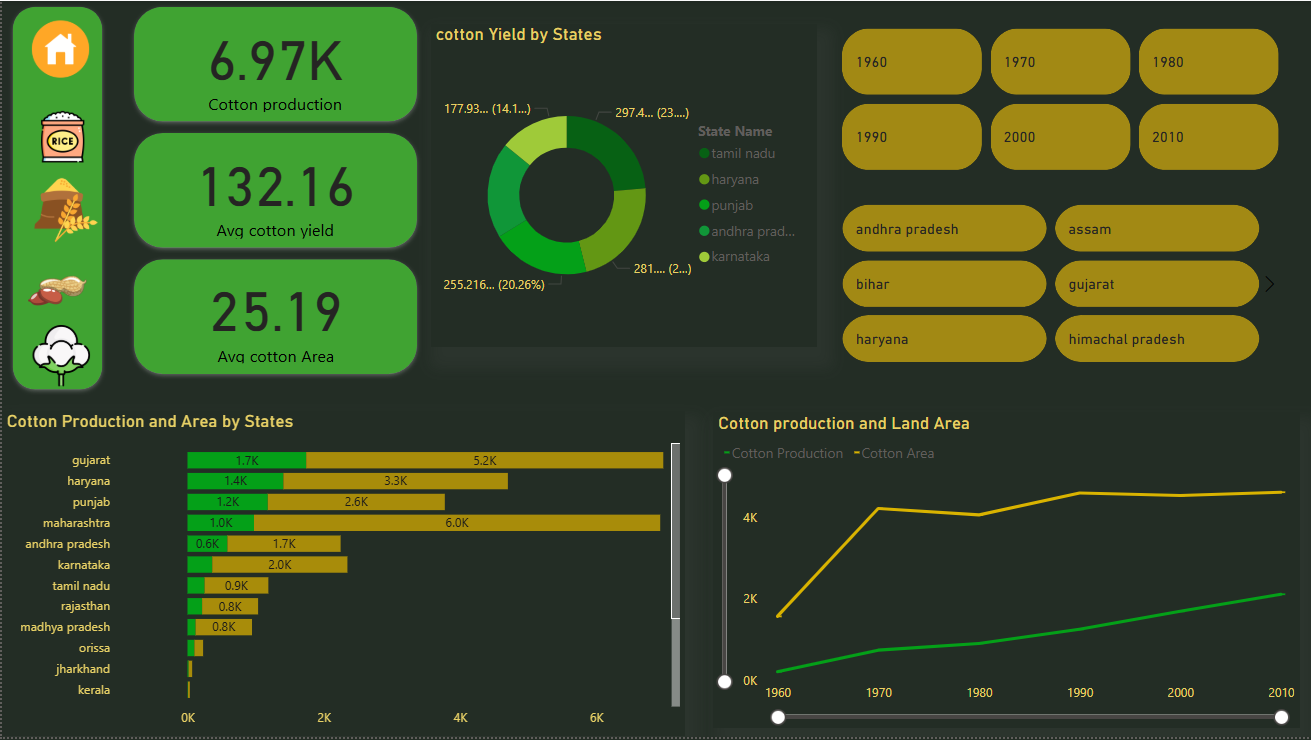

This screenshot's page, from the dashboard's own definition file:
{"tool":"powerbi","page":{"name":"Cotton","canvas":[1280,720],"ordinal":4},"visuals":[{"type":"shape","box":[123.8,0,288.2,123.5],"z":0},{"type":"card","title":"RIce Production","fields":{"Values":["Cotton Measure.Total_cottonproduction"]},"box":[147.1,11,241.5,102.9],"z":1000},{"type":"advancedSlicerVisual","fields":{"Values":["rain-agriculture.Year group (bins)"]},"box":[816.5,22,439.1,149.6],"z":2000},{"type":"advancedSlicerVisual","fields":{"Values":["rain-agriculture.State Name"]},"box":[797.3,194.9,458.3,164.7],"z":3000},{"type":"shape","box":[123.8,123.5,288.2,123.5],"z":4000},{"type":"shape","box":[123.8,247,288.2,123.5],"z":5000},{"type":"lineChart","title":"Cotton production and Land Area ","fields":{"Category":["rain-agriculture.Year group (bins)"],"Y":["Sum(rain-agriculture.COTTON PRODUCTION (1000 tons))","Sum(rain-agriculture.COTTON AREA (1000 ha))"]},"box":[695.7,402.1,573.6,308.7],"z":6000},{"type":"card","fields":{"Values":["Cotton Measure.Avg_cottonyield"]},"box":[123.8,133.1,288.2,104.3],"z":7000},{"type":"shape","box":[5.5,0,98.8,385.6],"z":8000},{"type":"donutChart","title":"cotton Yield by States","fields":{"Category":["rain-agriculture.State Name"],"Y":["Cotton Measure.Avg_cottonyield"]},"box":[419.9,22,377.4,317],"z":9000},{"type":"image","box":[28.8,102.9,60.4,60.4],"z":10000},{"type":"image","box":[20.6,161.9,83.7,85.1],"z":11000},{"type":"image","box":[5.5,247,98.8,72.7],"z":12000},{"type":"image","box":[23.3,308.7,70,78.2],"z":13000},{"type":"barChart","title":" Cotton Production and  Area by States","fields":{"Category":["rain-agriculture.State Name"],"Y":["Sum(rain-agriculture.COTTON PRODUCTION (1000 tons))","Sum(rain-agriculture.COTTON AREA (1000 ha))"]},"box":[0,401.6,668.3,318.4],"z":14000},{"type":"image","box":[24.7,11,65.9,71.4],"z":15000},{"type":"card","fields":{"Values":["Cotton Measure.Avg_cottonArea"]},"box":[118,256.6,299.1,102.9],"z":16000}]}

Visuals, with their boxes in screenshot pixels (x1, y1, x2, y2), scaled from the page's 1280x720 canvas onto the 1311x740 screenshot:
shape: 127,0,422,127
"RIce Production" card: 151,11,398,117
advancedSlicerVisual - rain-agriculture.Year group (bins): 836,23,1286,176
advancedSlicerVisual - rain-agriculture.State Name: 817,200,1286,370
shape: 127,127,422,254
shape: 127,254,422,381
"Cotton production and Land Area " lineChart: 713,413,1300,731
card - Cotton Measure.Avg_cottonyield: 127,137,422,244
shape: 6,0,107,396
"cotton Yield by States" donutChart: 430,23,817,348
image: 29,106,91,168
image: 21,166,107,254
image: 6,254,107,329
image: 24,317,96,398
" Cotton Production and  Area by States" barChart: 0,413,684,739
image: 25,11,93,85
card - Cotton Measure.Avg_cottonArea: 121,264,427,369
